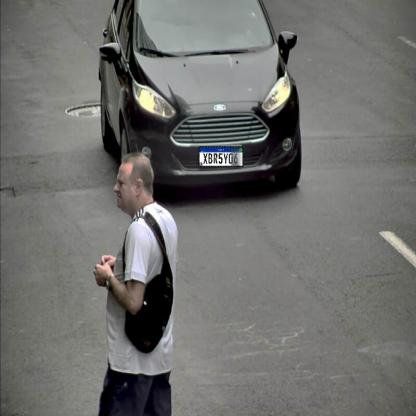PlacaM: (199, 146, 243, 167)
